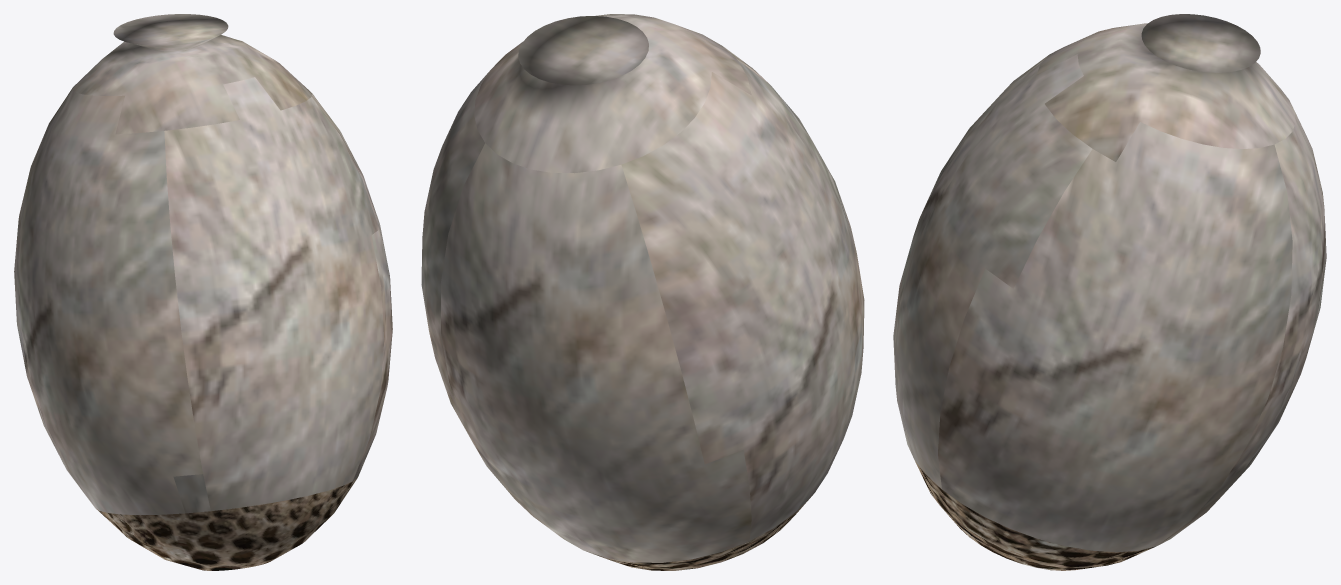
Rendered from VepseBol.glb.
The picture shows the model from 3 angles, left to right: view 1: azimuth 30°, elevation 25°; view 2: azimuth 150°, elevation 25°; view 3: azimuth 270°, elevation 25°; orthographic projection. The views are drawn at different scales.
Parts seen in each view (by area): view 1: VepseBol; view 2: VepseBol; view 3: VepseBol.
Part boxes in pixels (box(x1,y1,x2,y2)): VepseBol: box(14, 14, 392, 570); VepseBol: box(421, 14, 864, 570); VepseBol: box(893, 14, 1326, 570).
Bounding box in the file's own units: 0.1865 × 0.2669 × 0.1979.
Materials: 1 (1 with a texture image).
